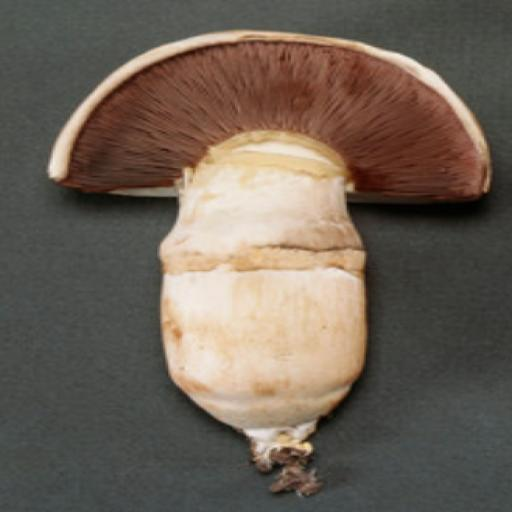Button Mushroom: (43, 28, 492, 466)
